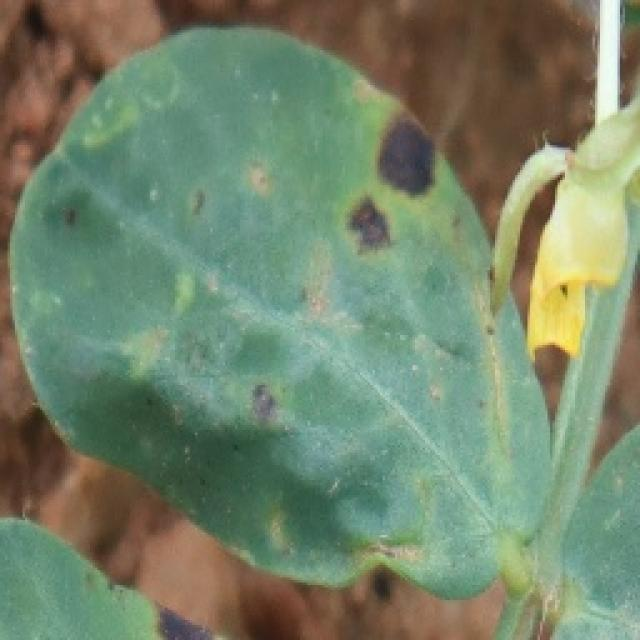Yellowish: (73, 61, 546, 560)
